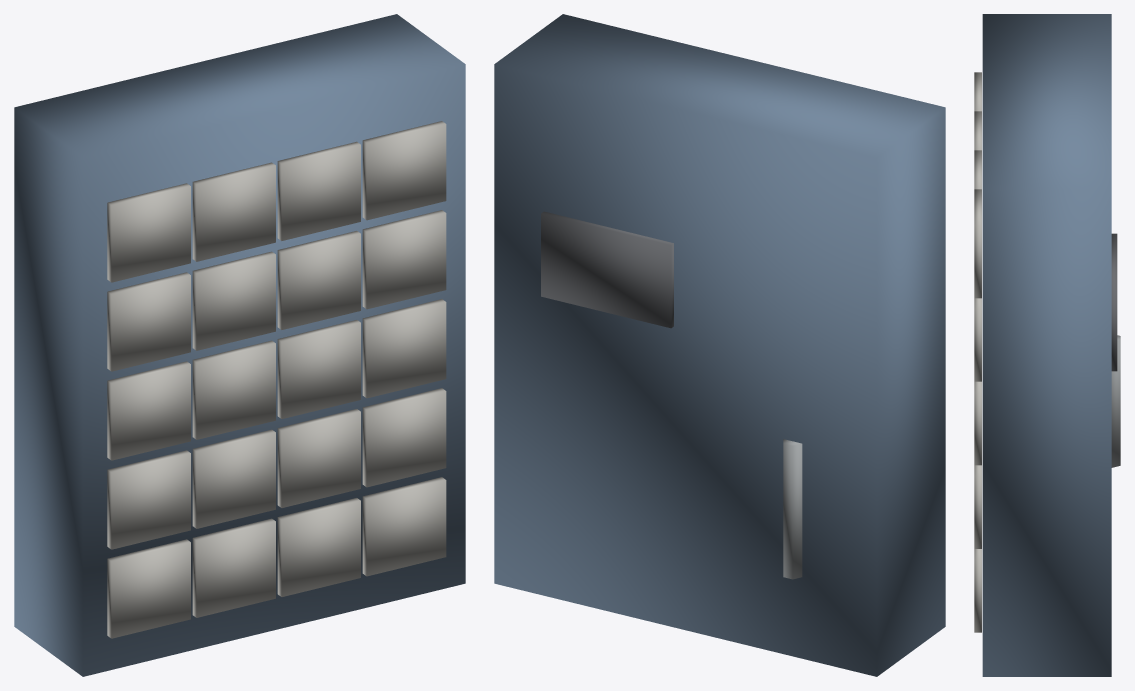
Rendered from parcel_locker__service.glb.
The picture shows the model from 3 angles, left to right: view 1: azimuth 30°, elevation 25°; view 2: azimuth 150°, elevation 25°; view 3: azimuth 270°, elevation 25°; orthographic projection. The views are drawn at different scales.
Parts seen in each view (by area): view 1: world; view 2: world; view 3: world.
Boxes of the visible parts, <box> form: world: <box>14,14,465,676</box>; world: <box>494,14,945,676</box>; world: <box>974,14,1120,676</box>.
Size of the model in its own units: 1.35 by 1.75 by 0.4767.
